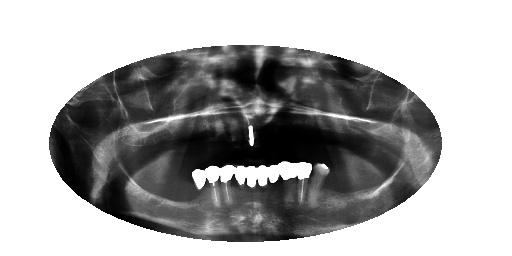i10loss: (234, 164, 247, 202)
i11healthy: (218, 163, 234, 208)
i12healthy: (202, 165, 219, 209)
i13loss: (191, 169, 208, 209)
i14loss: (179, 170, 191, 211)
i15loss: (161, 173, 178, 209)
i16loss: (139, 173, 159, 208)
i1loss: (360, 170, 376, 197)
i2loss: (345, 167, 359, 201)
i3loss: (327, 166, 344, 204)
i4decay: (311, 162, 328, 211)
i5healthy: (294, 158, 312, 206)
i6loss: (278, 158, 296, 204)
i7loss: (267, 162, 279, 203)
i8loss: (254, 162, 269, 202)
i9loss: (247, 164, 258, 200)
u10loss: (201, 114, 217, 150)
u11loss: (191, 118, 199, 151)
u12loss: (178, 122, 190, 152)
u13loss: (166, 125, 175, 154)
u14loss: (156, 128, 164, 156)
u15loss: (144, 133, 154, 157)
u16loss: (129, 137, 143, 159)
u1loss: (344, 128, 364, 152)
u2loss: (329, 123, 341, 151)
u3loss: (310, 120, 326, 150)
u4loss: (290, 118, 307, 148)
u5loss: (268, 120, 288, 147)
u6loss: (255, 123, 266, 147)
u7healthy: (247, 123, 254, 148)
u8loss: (236, 122, 245, 148)
u9loss: (219, 119, 233, 149)
